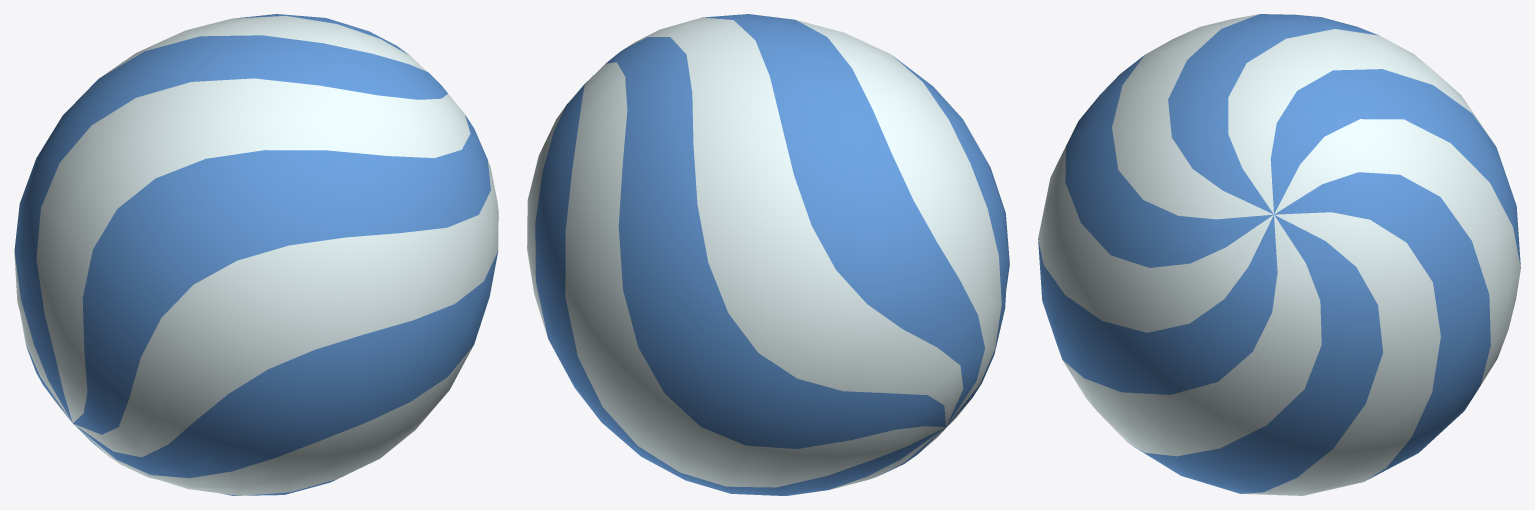
The model's file is Gum_A_01.fbx.
3 views of the same model, side by side, from view 1: azimuth 30°, elevation 25°; view 2: azimuth 150°, elevation 25°; view 3: azimuth 270°, elevation 25° (orthographic). The views are drawn at different scales.
Parts seen in each view (by area): view 1: Gum_A_01_LOD0; view 2: Gum_A_01_LOD0; view 3: Gum_A_01_LOD0.
Part boxes in pixels (x1,y1,x2,y2): Gum_A_01_LOD0: (14, 14, 498, 495); Gum_A_01_LOD0: (527, 14, 1009, 495); Gum_A_01_LOD0: (1038, 14, 1520, 495).
Size of what is drawn, in the model's own units: 428 by 418 by 413.
